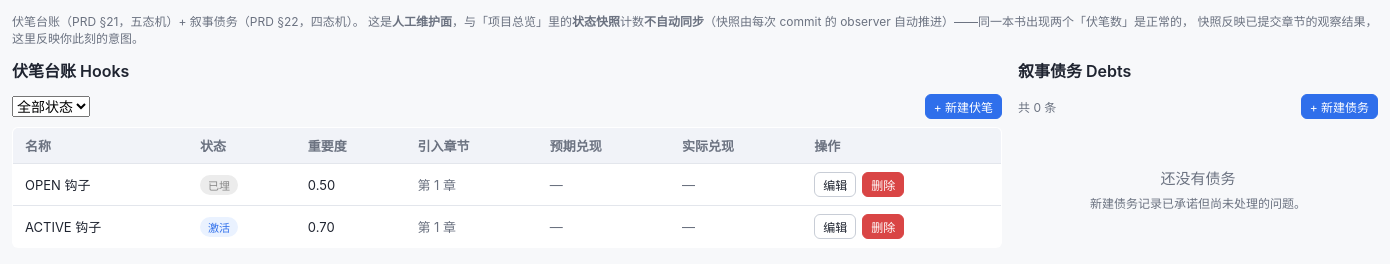
Scenario: LedgerTab 关键流 › a) 切换 status filter：选 ACTIVE → 只显示 ACTIVE 钩子
The image size is (1390, 264).
Expected: the text "OPEN 钩子" is shown, [12,164,188,206]
Expected: the text "ACTIVE 钩子" is shown, [12,206,188,248]
切到 ACTIVE
Select "激活" in the dropdown with test id "hook-status-filter" at (51,106), box [12,96,90,117]
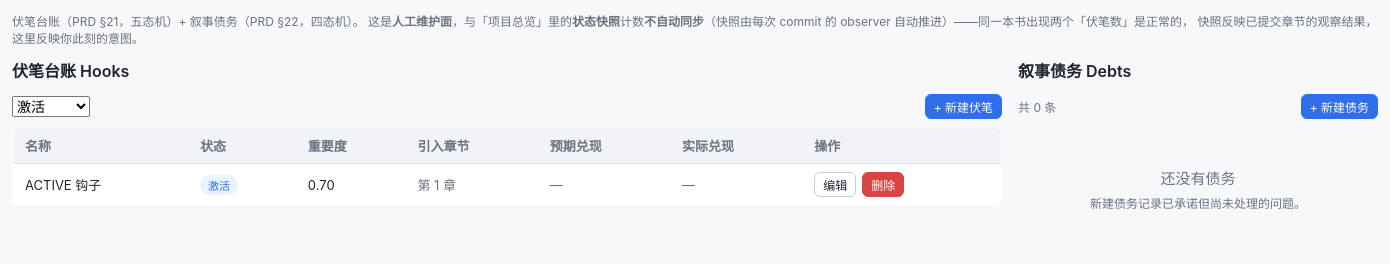
Expected: the text "ACTIVE 钩子" is shown, [12,164,188,206]
Result: the text "OPEN 钩子" is gone
